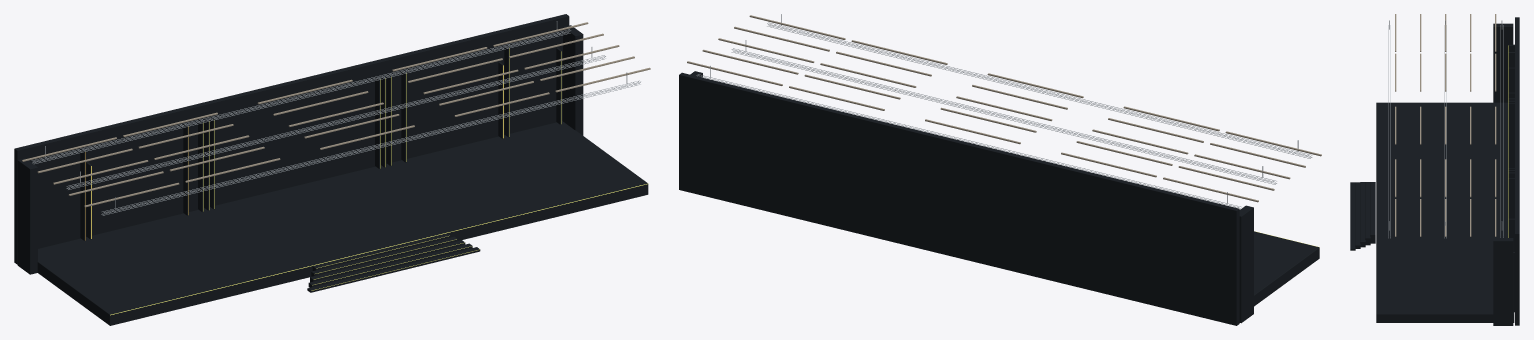
The model's file is flagship-stage.glb.
3 renders of one model, left to right at view 1: azimuth 30°, elevation 25°; view 2: azimuth 150°, elevation 25°; view 3: azimuth 270°, elevation 25°, orthographic. The views are drawn at different scales.
Visible parts, largest first — view 1: Graphite lacquer, Satin aluminium, Brushed champagne aluminium, 3000K integrated light; view 2: Graphite lacquer, Brushed champagne aluminium, Satin aluminium; view 3: Graphite lacquer, Brushed champagne aluminium, Satin aluminium, 3000K integrated light.
Boxes of the visible parts, x1,y1,x2,y2 form: Graphite lacquer: (14,14,648,325); Satin aluminium: (31,21,640,215); Brushed champagne aluminium: (22,22,650,207); 3000K integrated light: (85,48,648,315); Graphite lacquer: (679,71,1319,325); Brushed champagne aluminium: (687,15,1321,202); Satin aluminium: (696,14,1312,209); Graphite lacquer: (1350,17,1519,325); Brushed champagne aluminium: (1395,14,1496,236); Satin aluminium: (1388,20,1503,238); 3000K integrated light: (1508,45,1508,237).
Size of the model in its own units: 84 by 17 by 27.06.
